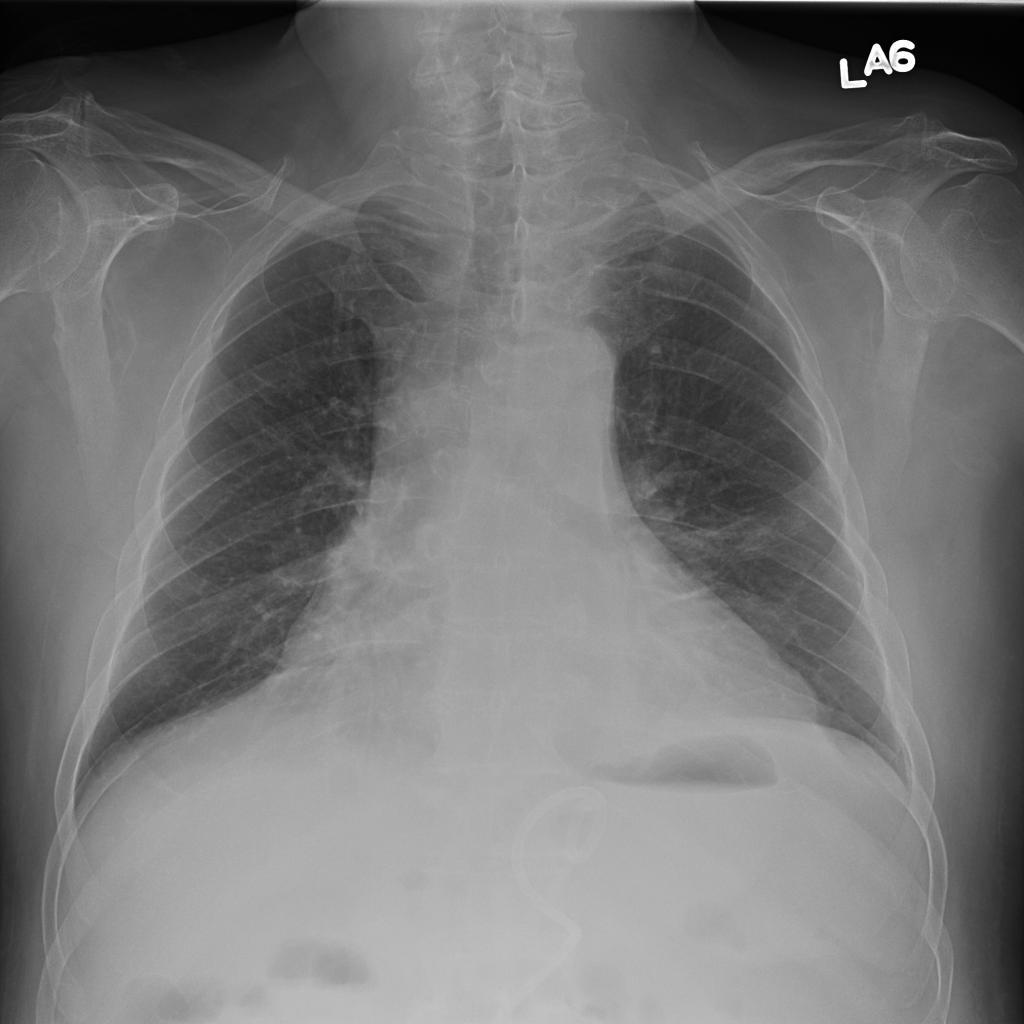Nodule: (138, 129, 186, 201)
